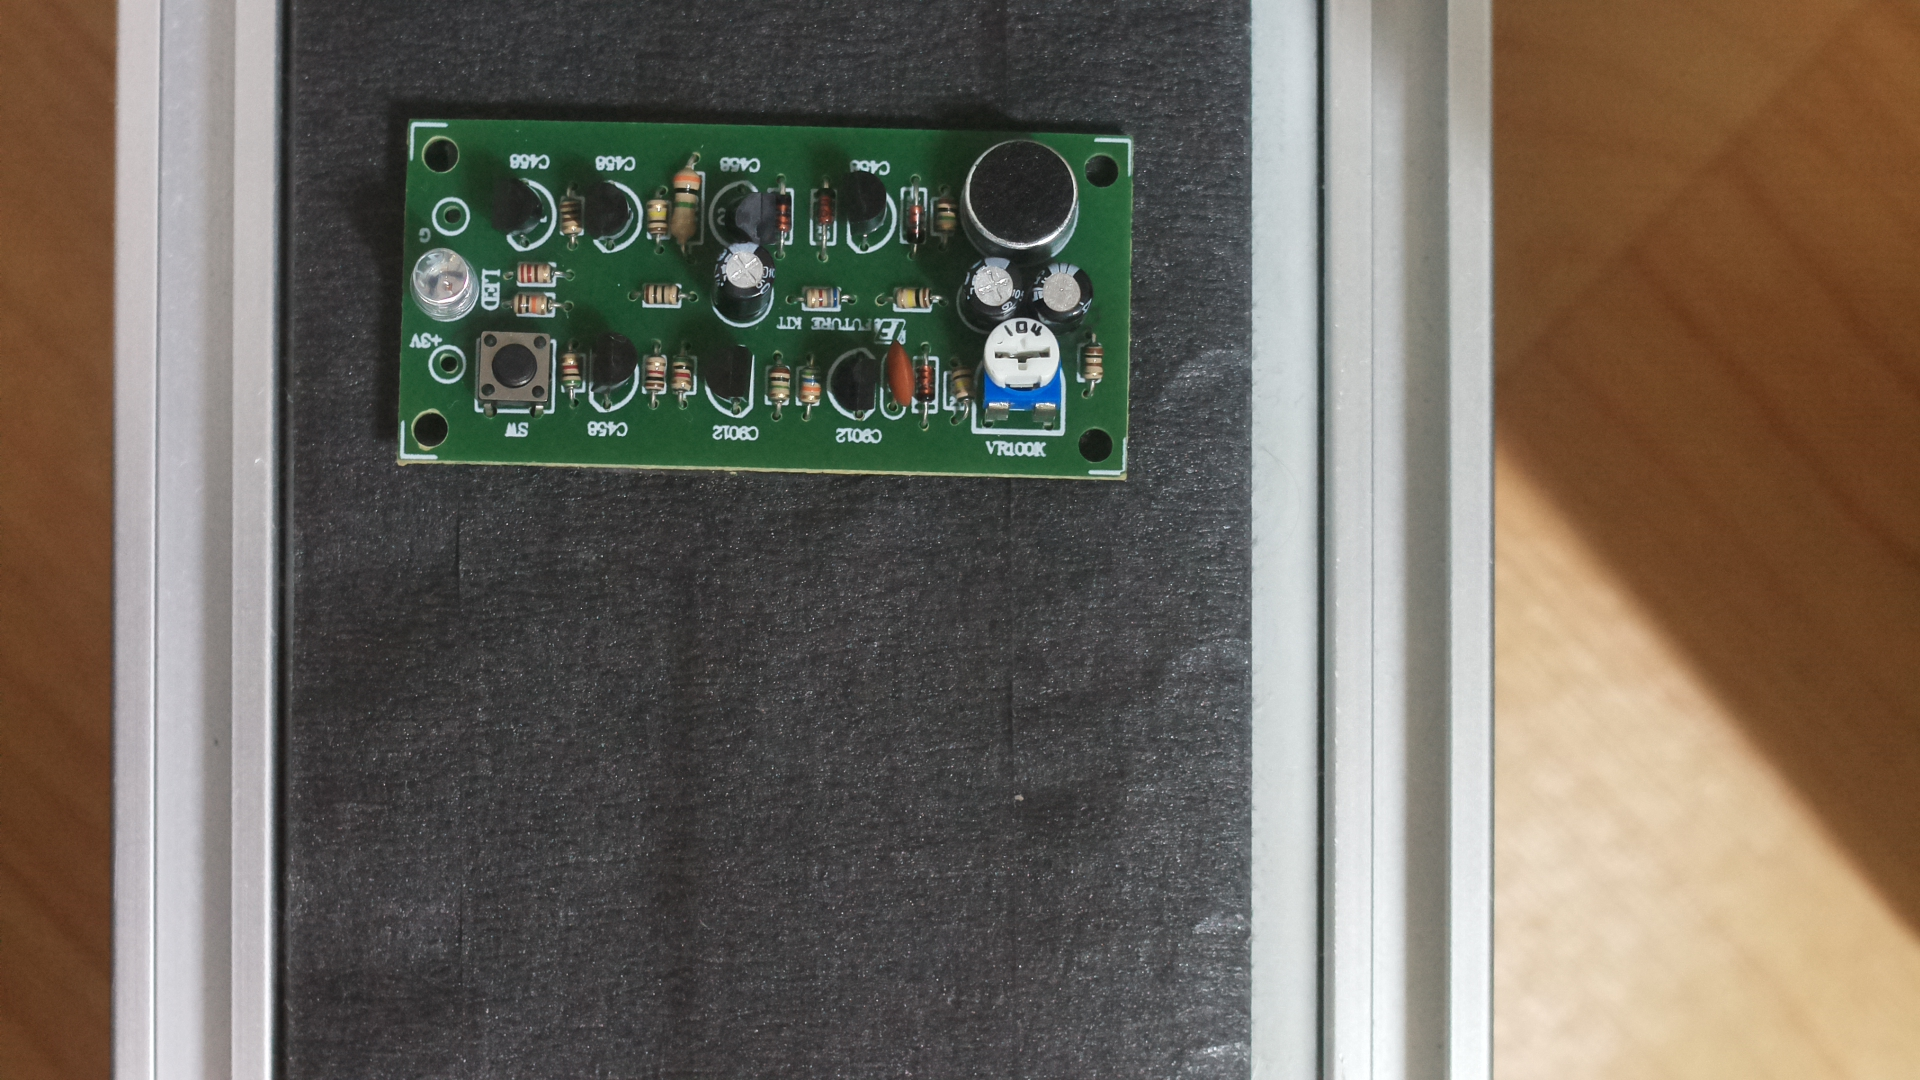A_Normal: (385, 95, 1145, 500)
